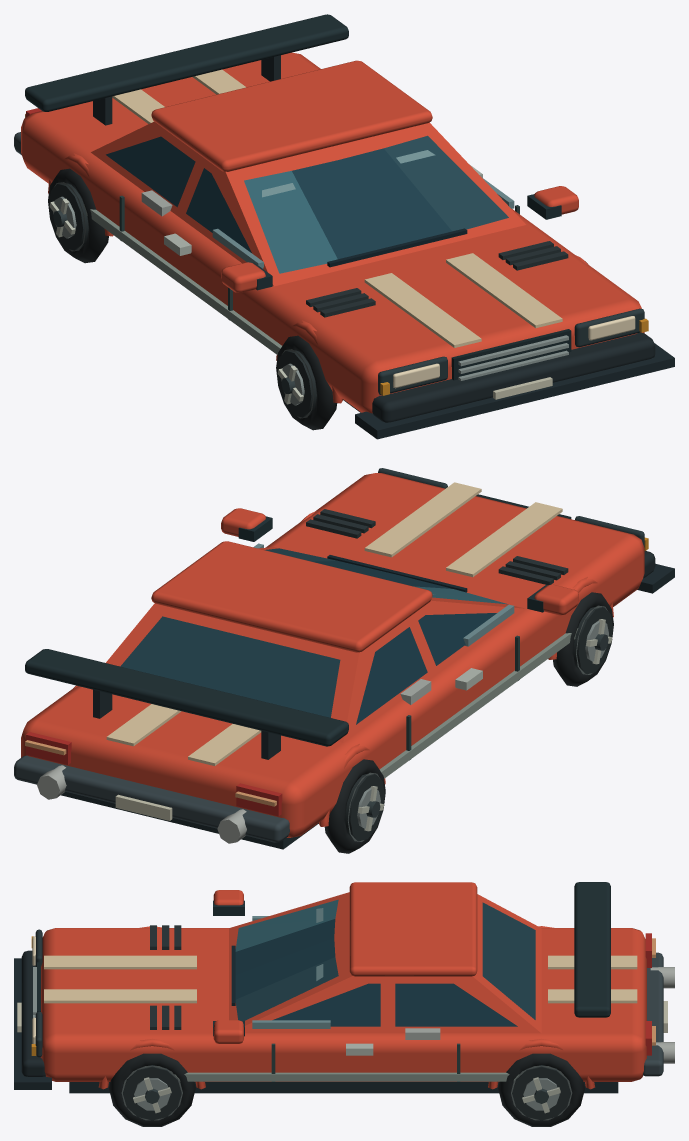
The model's file is sport.glb.
3 renders of one model, top to bottom at view 1: azimuth 30°, elevation 25°; view 2: azimuth 150°, elevation 25°; view 3: azimuth 270°, elevation 25°, orthographic. The views are drawn at different scales.
Visible parts, largest first — view 1: sport_body; view 2: sport_body; view 3: sport_body.
Boxes of the visible parts, box(x1,y1,x2,y2) form: sport_body: box(14, 14, 674, 439); sport_body: box(14, 468, 674, 853); sport_body: box(14, 882, 674, 1126).
Size of the model in its own units: 2.24 by 1.05 by 4.35.
